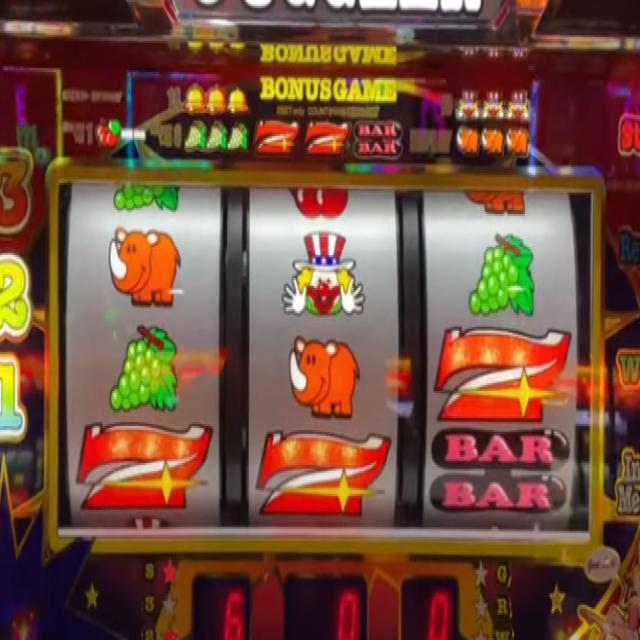bar: (431, 424, 570, 514), (356, 119, 403, 160)
bell: (182, 81, 206, 115), (207, 80, 226, 118), (227, 85, 246, 115)
cherry: (287, 182, 349, 220), (97, 120, 121, 150)
clown: (283, 229, 366, 320), (506, 91, 533, 123), (456, 90, 480, 124), (482, 91, 506, 123)
display: (55, 178, 592, 546)
elephant: (290, 332, 361, 418), (110, 226, 181, 307), (463, 190, 527, 221), (506, 129, 530, 157), (480, 128, 503, 156), (456, 128, 478, 157)
grape: (110, 321, 178, 418), (470, 230, 536, 322), (111, 180, 180, 218), (205, 121, 228, 156), (184, 120, 205, 153), (226, 125, 248, 155)
z: (76, 419, 213, 518), (434, 323, 570, 420), (257, 432, 390, 522), (254, 120, 298, 158), (308, 120, 347, 160)
